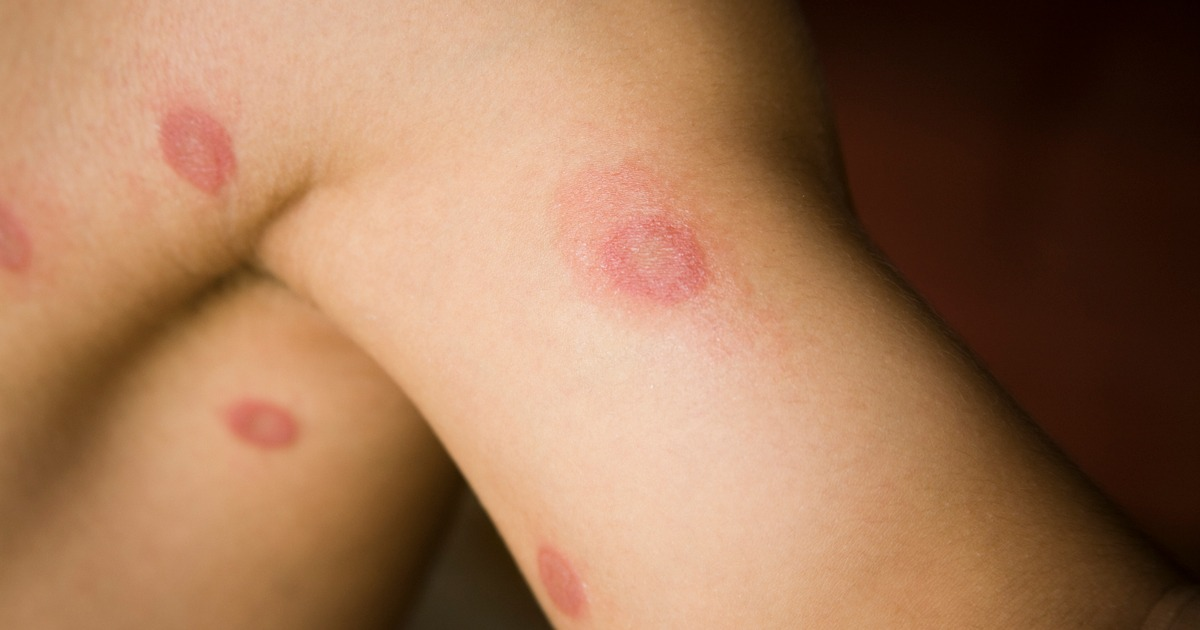Ringworm: (562, 190, 743, 335), (125, 95, 275, 222), (218, 385, 317, 468), (525, 535, 597, 630)
